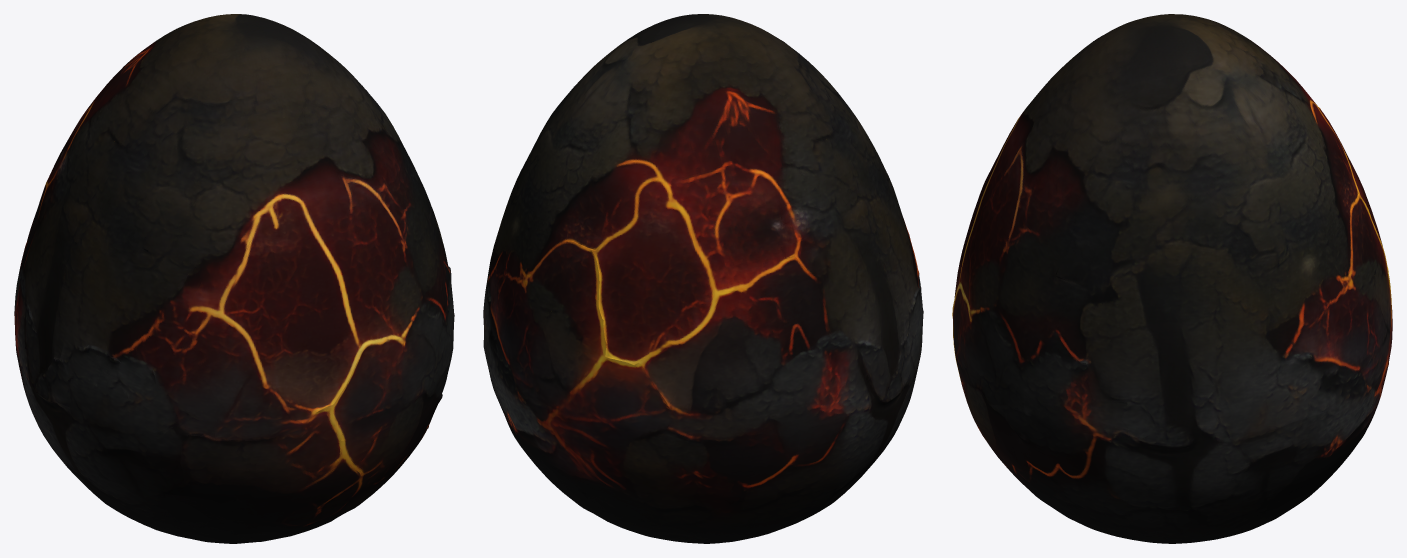
The model's file is EggVolcanic.glb.
3 renders of one model, left to right at view 1: azimuth 30°, elevation 25°; view 2: azimuth 150°, elevation 25°; view 3: azimuth 270°, elevation 25°, orthographic.
Parts seen in each view (by area): view 1: geometry_0; view 2: geometry_0; view 3: geometry_0.
Boxes of the visible parts, box(x1,y1,x2,y2) form: geometry_0: box(14, 14, 454, 543); geometry_0: box(483, 14, 923, 543); geometry_0: box(952, 14, 1392, 543).
Bounding box in the file's own units: 0.8019 × 0.9975 × 0.7981.
1 material, 1 textured.
